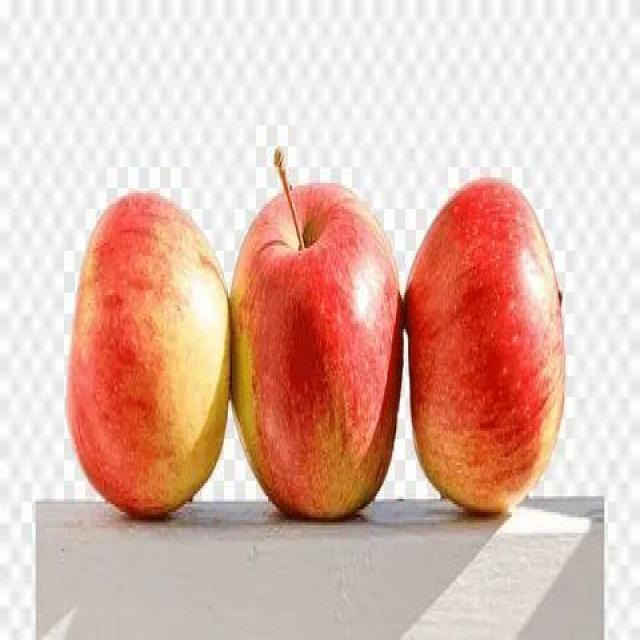Fresh Apple: (408, 180, 568, 525), (68, 203, 232, 537), (235, 195, 393, 517)
